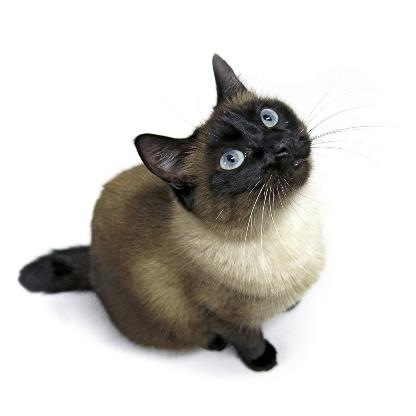Cat: (16, 47, 394, 370)
